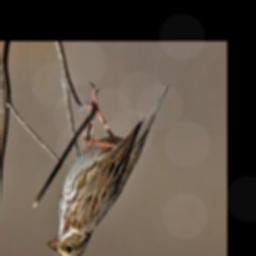Sparrow: (47, 80, 171, 256)
